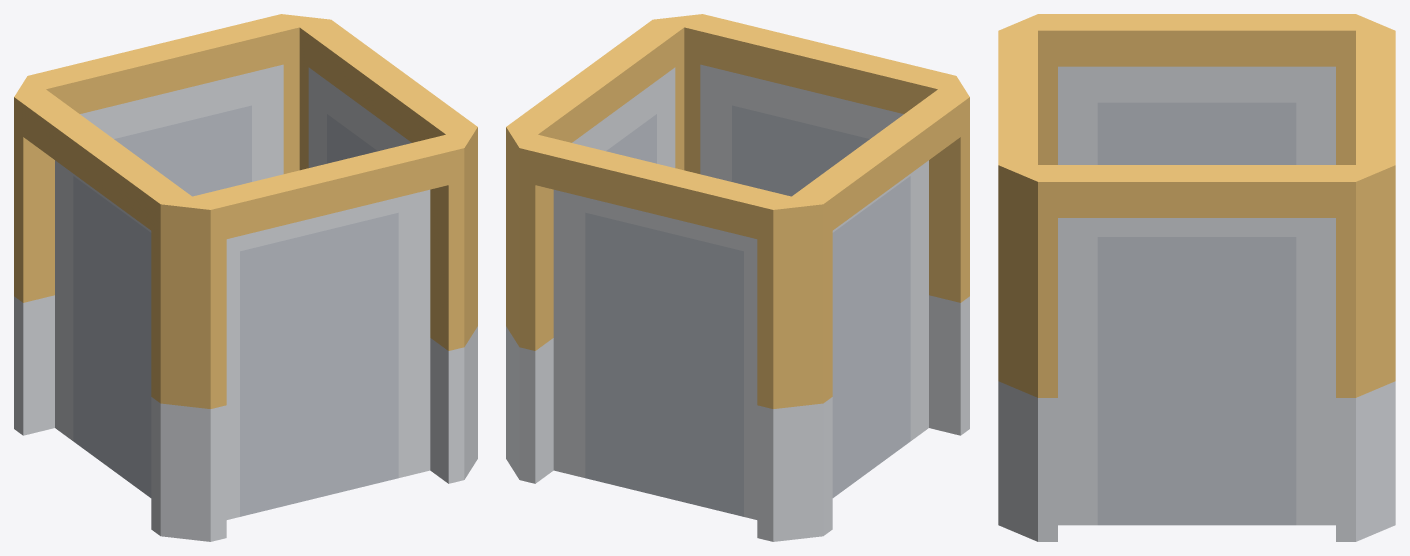
The model's file is structure_closed.glb.
3 renders of one model, left to right at view 1: azimuth 30°, elevation 25°; view 2: azimuth 150°, elevation 25°; view 3: azimuth 270°, elevation 25°, orthographic. The views are drawn at different scales.
Parts seen in each view (by area): view 1: structure_closed; view 2: structure_closed; view 3: structure_closed.
Boxes of the visible parts, left/top/right/bottom form: structure_closed: left=14, top=14, right=477, bottom=541; structure_closed: left=506, top=14, right=969, bottom=541; structure_closed: left=998, top=14, right=1395, bottom=541.
Size of the model in its own units: 1 by 1 by 1.
